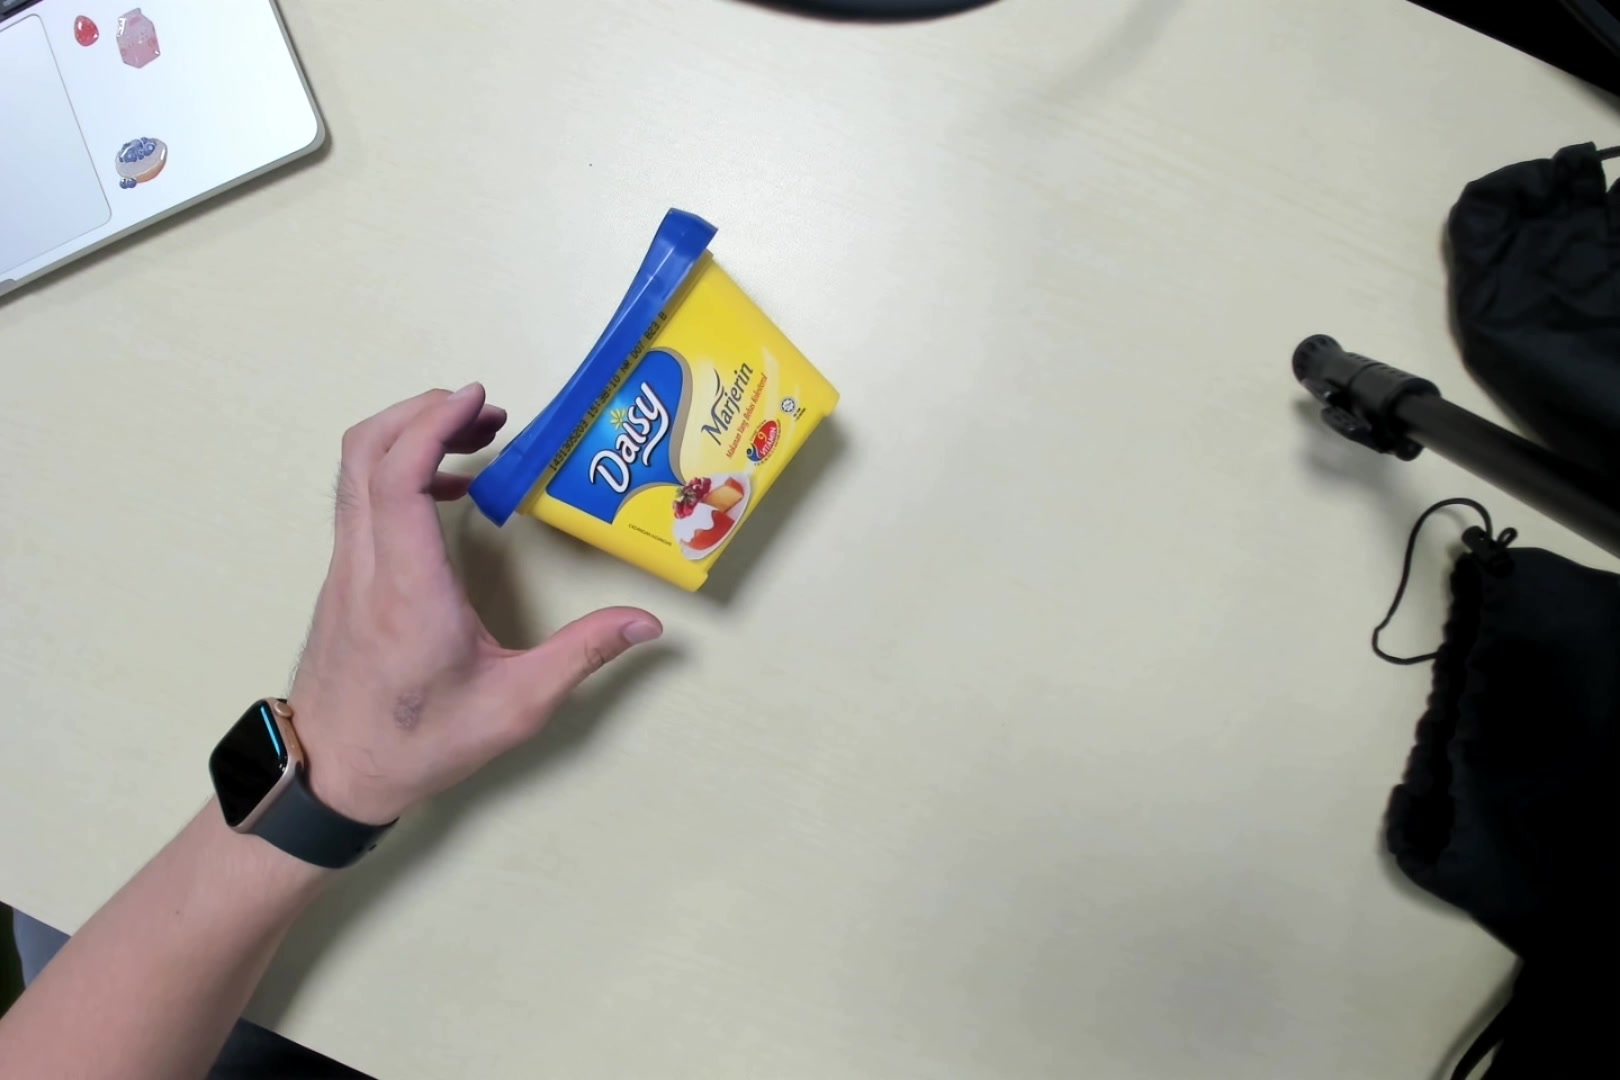OtherSpreads_400-499g_Halal_NonHealthy: (471, 202, 845, 600)
